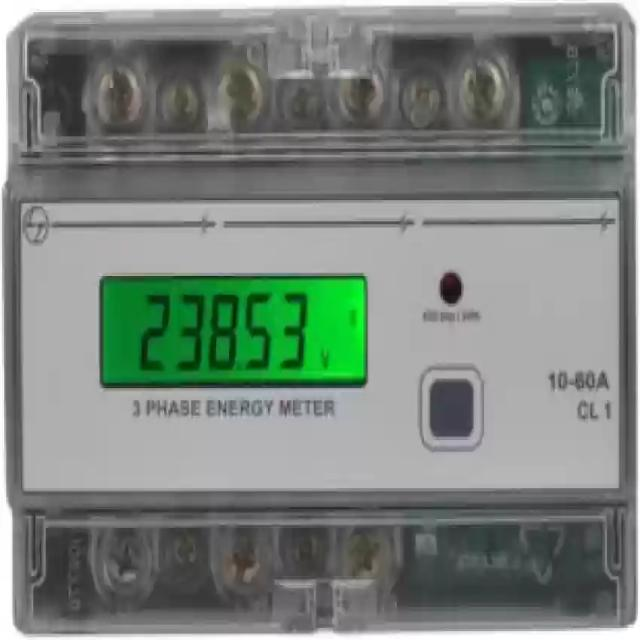display: (101, 275, 366, 386)
frame: (136, 286, 314, 375), (545, 364, 596, 392), (128, 394, 145, 424), (600, 398, 615, 426)
gauge: (0, 6, 640, 634)
